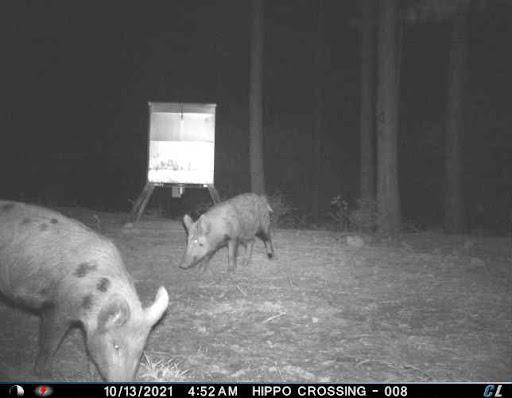Hog: (0, 191, 175, 381), (182, 190, 288, 290)
